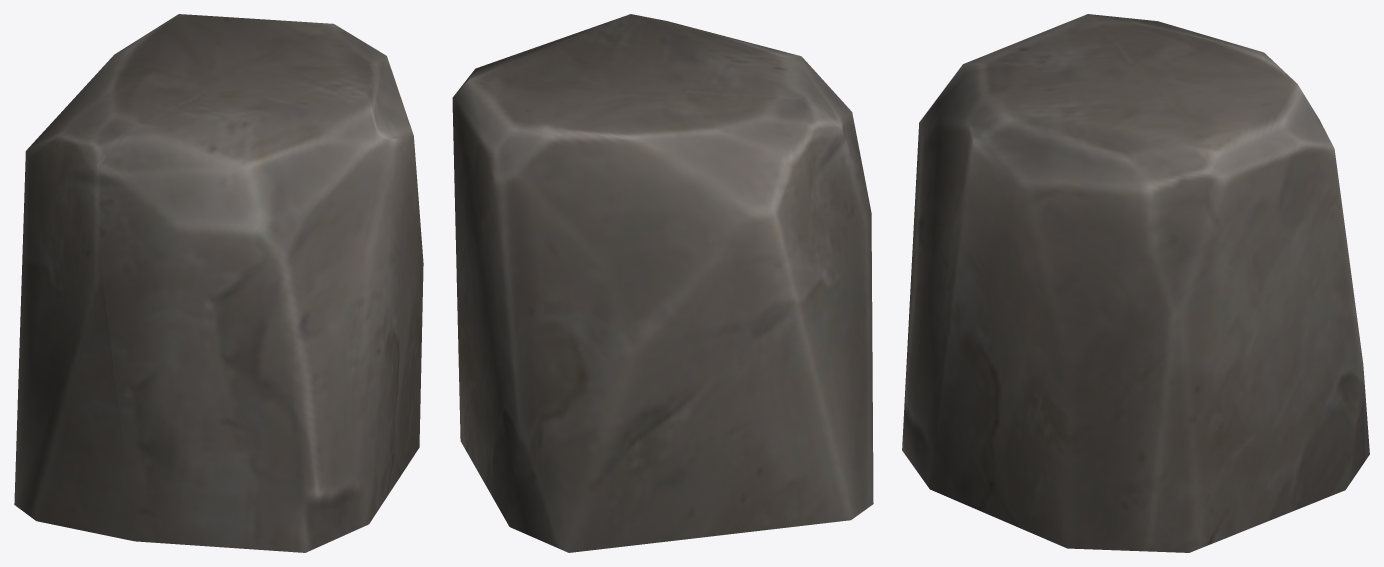
Rendered from SimpleRock01.FBX.
3 renders of one model, left to right at view 1: azimuth 30°, elevation 25°; view 2: azimuth 150°, elevation 25°; view 3: azimuth 270°, elevation 25°, orthographic. The views are drawn at different scales.
Visible parts, largest first — view 1: SimpleRock01; view 2: SimpleRock01; view 3: SimpleRock01.
Boxes of the visible parts, x1,y1,x2,y2 form: SimpleRock01: (14, 14, 423, 552); SimpleRock01: (452, 14, 873, 552); SimpleRock01: (902, 14, 1369, 552).
Bounding box in the file's own units: 1.93 × 1.96 × 1.85.
